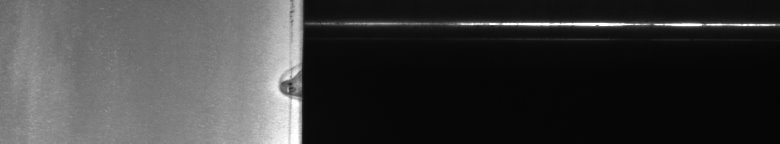hb: (271, 4, 292, 104)
